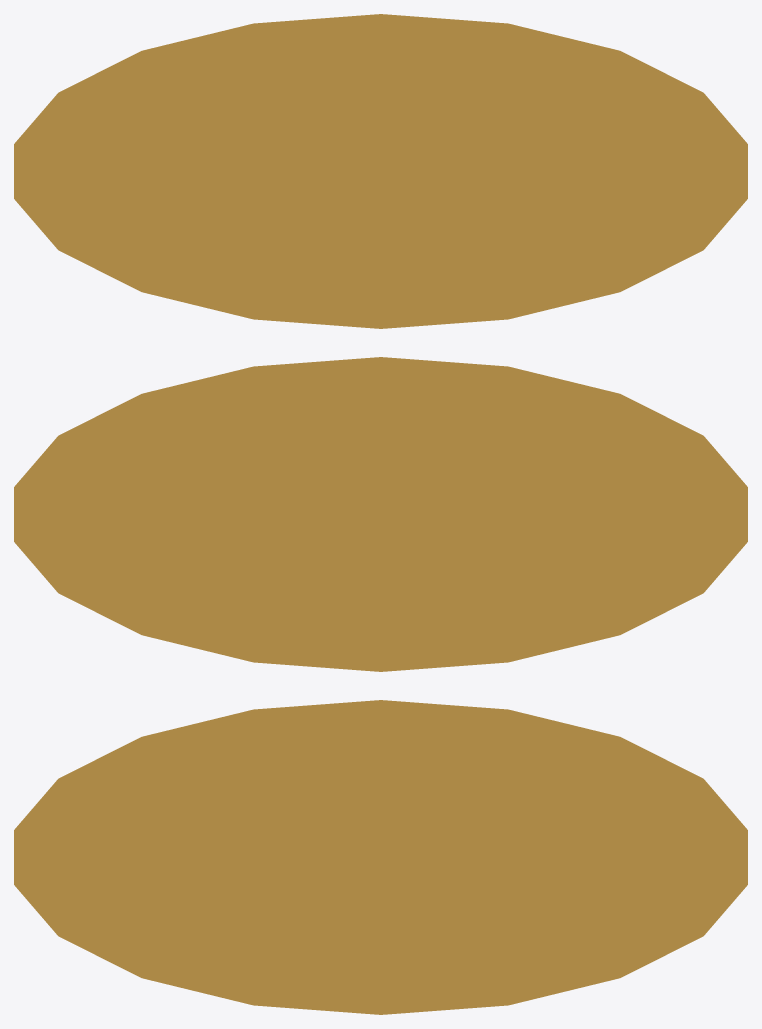
The model's file is onion_soup.FBX.
The picture shows the model from 3 angles, top to bottom: view 1: azimuth 30°, elevation 25°; view 2: azimuth 150°, elevation 25°; view 3: azimuth 270°, elevation 25°; orthographic projection.
Parts seen in each view (by area): view 1: Cylinder002; view 2: Cylinder002; view 3: Cylinder002.
Boxes of the visible parts, bbox=[...] form: Cylinder002: bbox=[14, 14, 747, 328]; Cylinder002: bbox=[14, 357, 747, 671]; Cylinder002: bbox=[14, 700, 747, 1014].
Bounding box in the file's own units: 68.39 × 67.35 × 1.8.
1 material, 1 textured.
